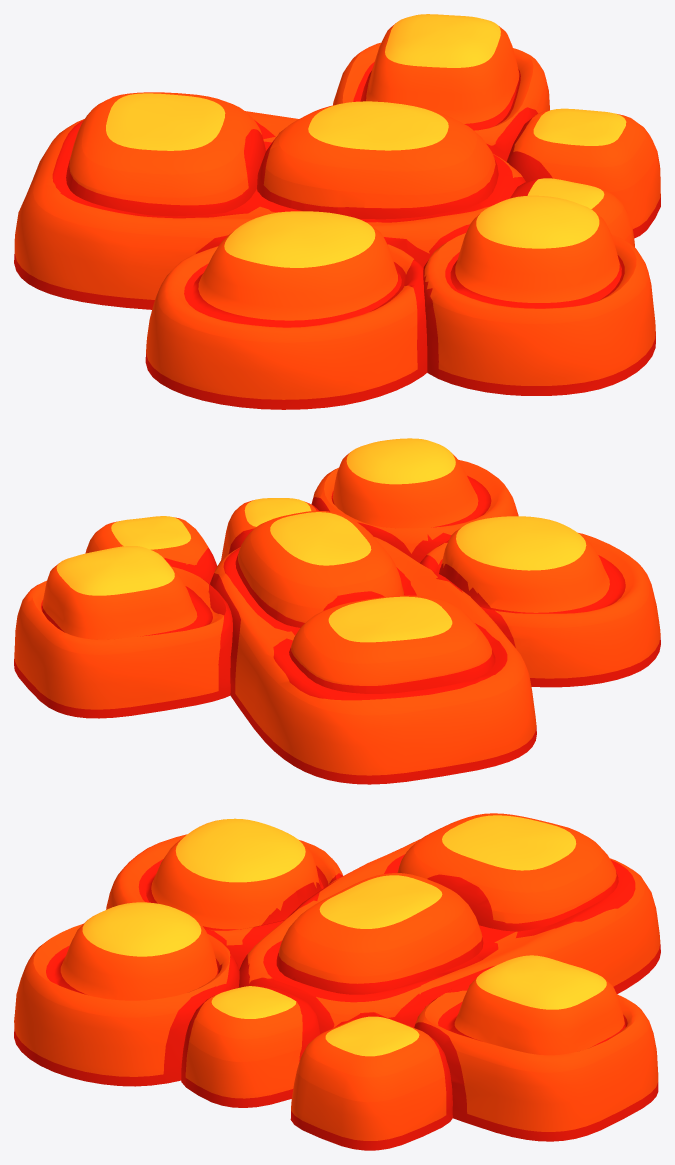
The model's file is bubbles_hot_159.glb.
3 renders of one model, top to bottom at view 1: azimuth 30°, elevation 25°; view 2: azimuth 150°, elevation 25°; view 3: azimuth 270°, elevation 25°, orthographic. The views are drawn at different scales.
Parts seen in each view (by area): view 1: lower_left, bottom, pill, pill_ridge, pill_pad, upper_right, right, small; view 2: pill, upper_right, lower_left, pill_pad, bottom, pill_ridge, right, small; view 3: upper_right, bottom, pill, lower_left, pill_ridge, pill_pad, right, small.
Part boxes in pixels (x1,y1,x2,y2): lower_left: (145,211,427,409); bottom: (423,195,655,395); pill: (14,111,525,309); pill_ridge: (257,101,498,219); pill_pad: (66,92,265,216); upper_right: (333,14,549,161); right: (506,108,660,238); small: (510,178,634,247); pill: (210,537,536,784); upper_right: (14,546,232,718); lower_left: (420,516,660,687); pill_pad: (289,595,495,693); bottom: (311,438,518,562); pill_ridge: (235,510,404,627); right: (85,516,217,583); small: (221,498,318,560); upper_right: (414,955,658,1141); bottom: (14,902,239,1086); pill: (238,839,660,1033); lower_left: (106,818,342,969); pill_ridge: (276,873,483,994); pill_pad: (397,813,618,931); right: (290,1016,452,1150); small: (181,985,320,1107).
Size of the model in its own units: 23.98 by 5.44 by 24.89.
